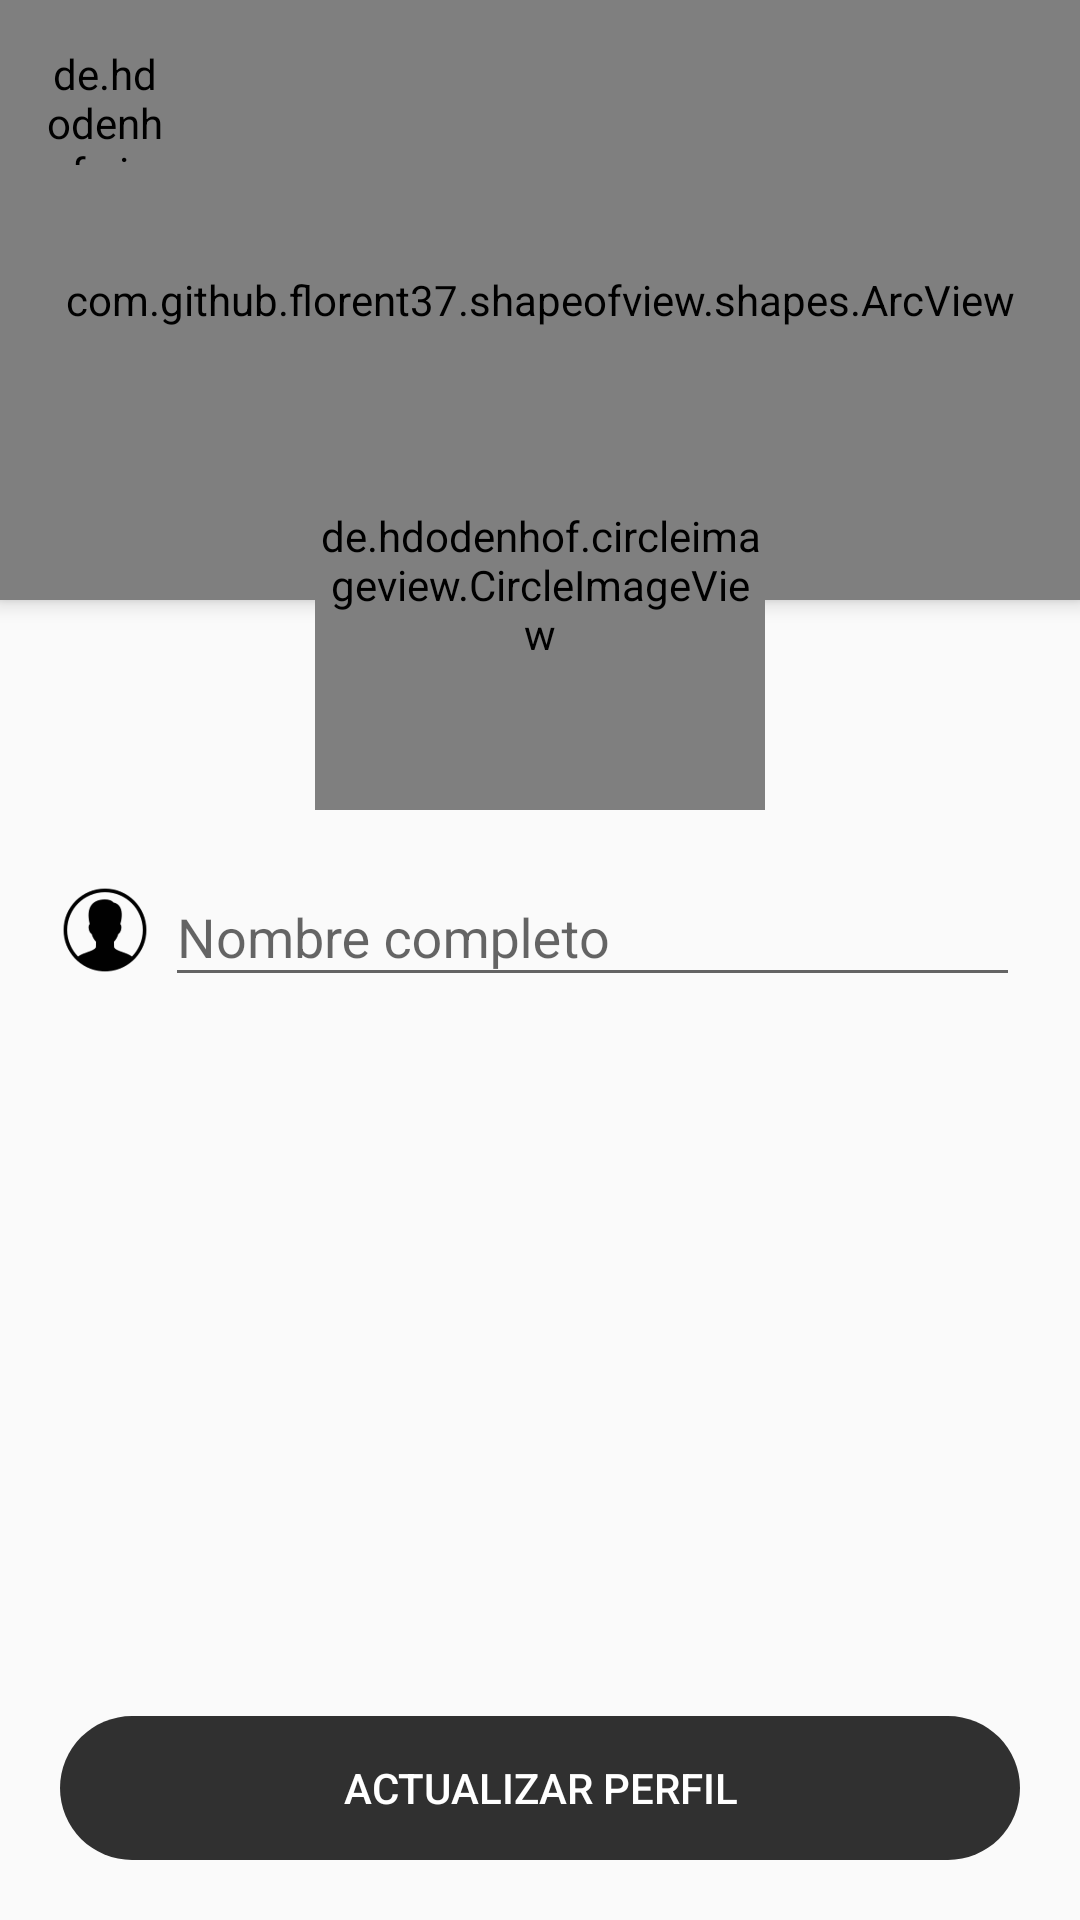

Icon bounding boxes for this 1080px×1920px phone screenshot, format bbox(x1, y1, x2, y2):
user: bbox(63, 888, 147, 972)
